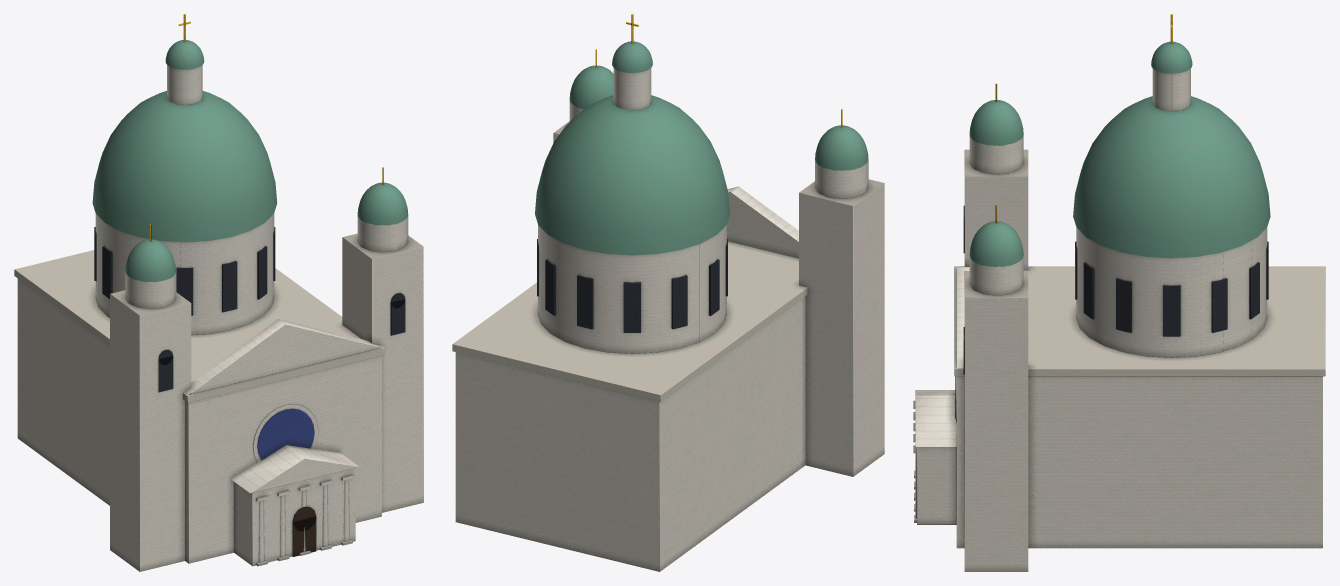
The model's file is basilica_mary.glb.
3 views of the same model, side by side, from view 1: azimuth 30°, elevation 25°; view 2: azimuth 150°, elevation 25°; view 3: azimuth 270°, elevation 25° (orthographic). The views are drawn at different scales.
Parts seen in each view (by area): view 1: basilica_mary; view 2: basilica_mary; view 3: basilica_mary.
Part boxes in pixels (x1,y1,x2,y2): basilica_mary: (14,14,423,571); basilica_mary: (452,14,884,571); basilica_mary: (913,14,1325,571).
Bounding box in the file's own units: 44 × 67 × 51.74.
Materials: 1 (1 with a texture image).
